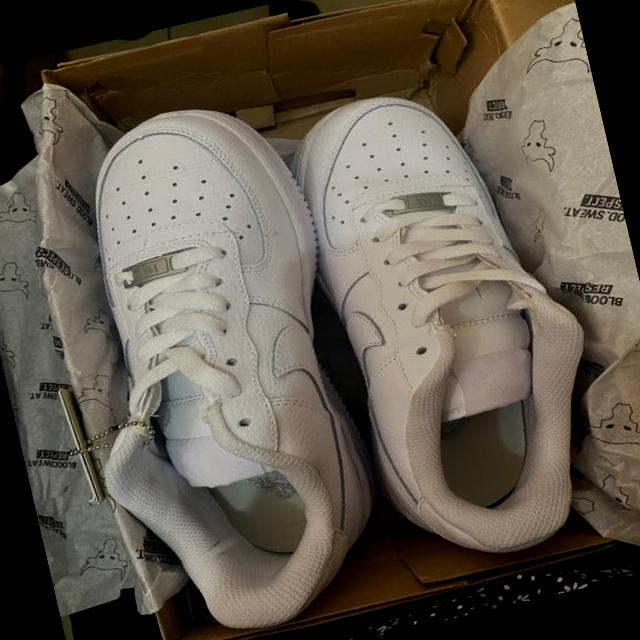nike_fake_airforce: (27, 85, 399, 640), (278, 59, 636, 622)
